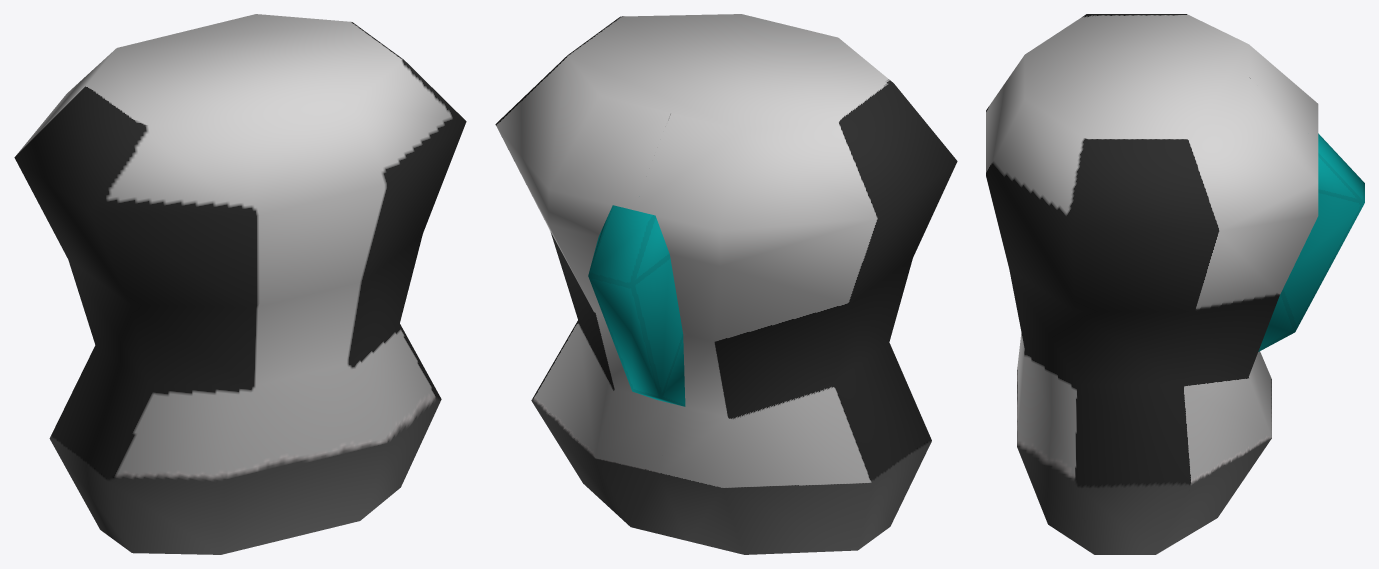
The model's file is Body.fbx.
3 views of the same model, side by side, from view 1: azimuth 30°, elevation 25°; view 2: azimuth 150°, elevation 25°; view 3: azimuth 270°, elevation 25° (orthographic). The views are drawn at different scales.
Visible parts, largest first — view 1: Shape_IndexedFaceSet; view 2: Shape_IndexedFaceSet; view 3: Shape_IndexedFaceSet.
Boxes of the visible parts, x1,y1,x2,y2 form: Shape_IndexedFaceSet: (14, 14, 466, 554); Shape_IndexedFaceSet: (495, 14, 957, 554); Shape_IndexedFaceSet: (986, 14, 1364, 554).
Bounding box in the file's own units: 0.3774 × 0.413 × 0.3418.
1 material, 1 textured.
